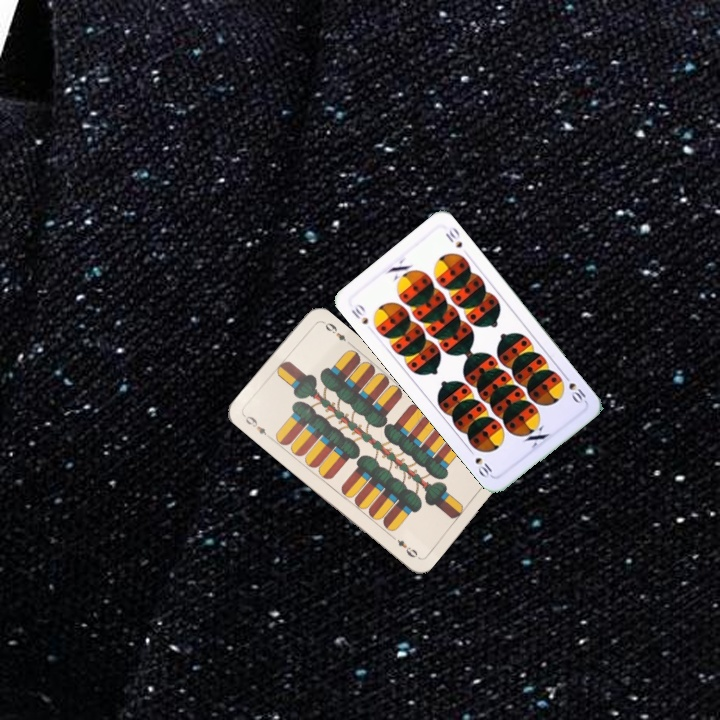E9: (240, 411, 274, 441)
S10: (559, 370, 589, 406), (347, 300, 371, 327)
